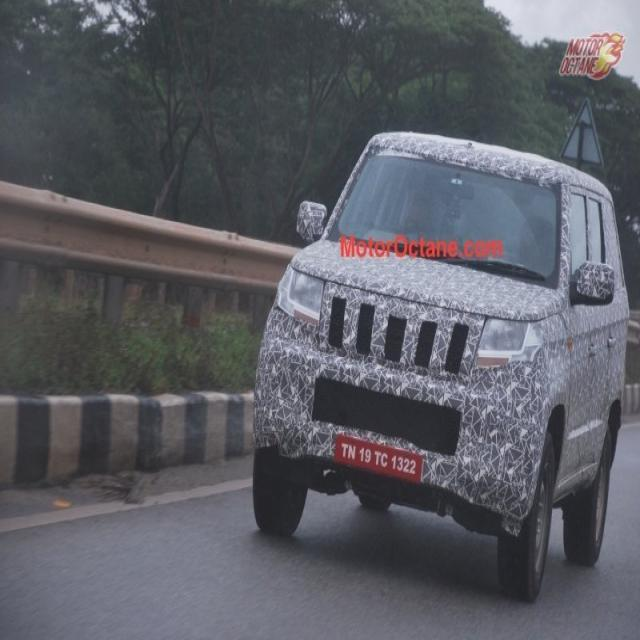light_vehicle: (263, 130, 625, 585)
